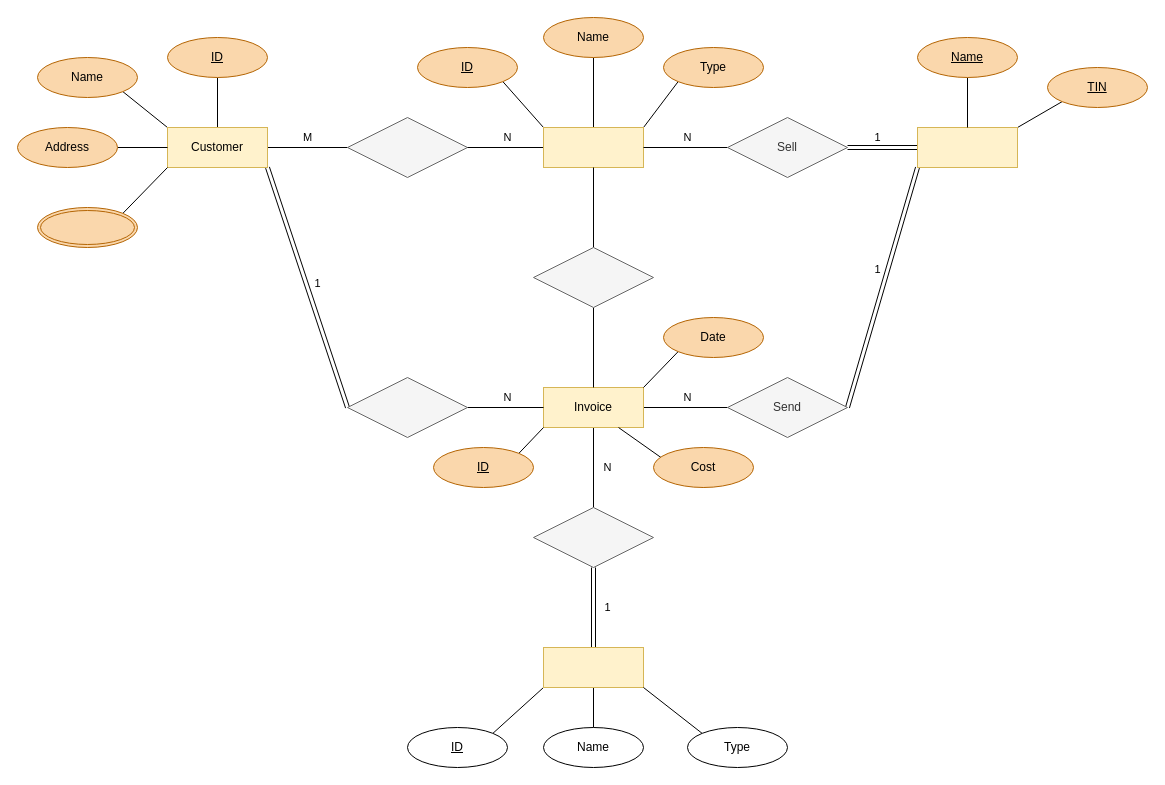
Image size: 1165x785. Some labels were removed from this diagram. Here are the shapes that lost their labels. From the top down, the centre of each, then its label:
point (407, 147): Buy
point (593, 147): Product
point (967, 147): Company
point (87, 227): Contact
point (593, 277): Assign
point (407, 407): Receive
point (593, 537): Store
point (593, 667): Journal
